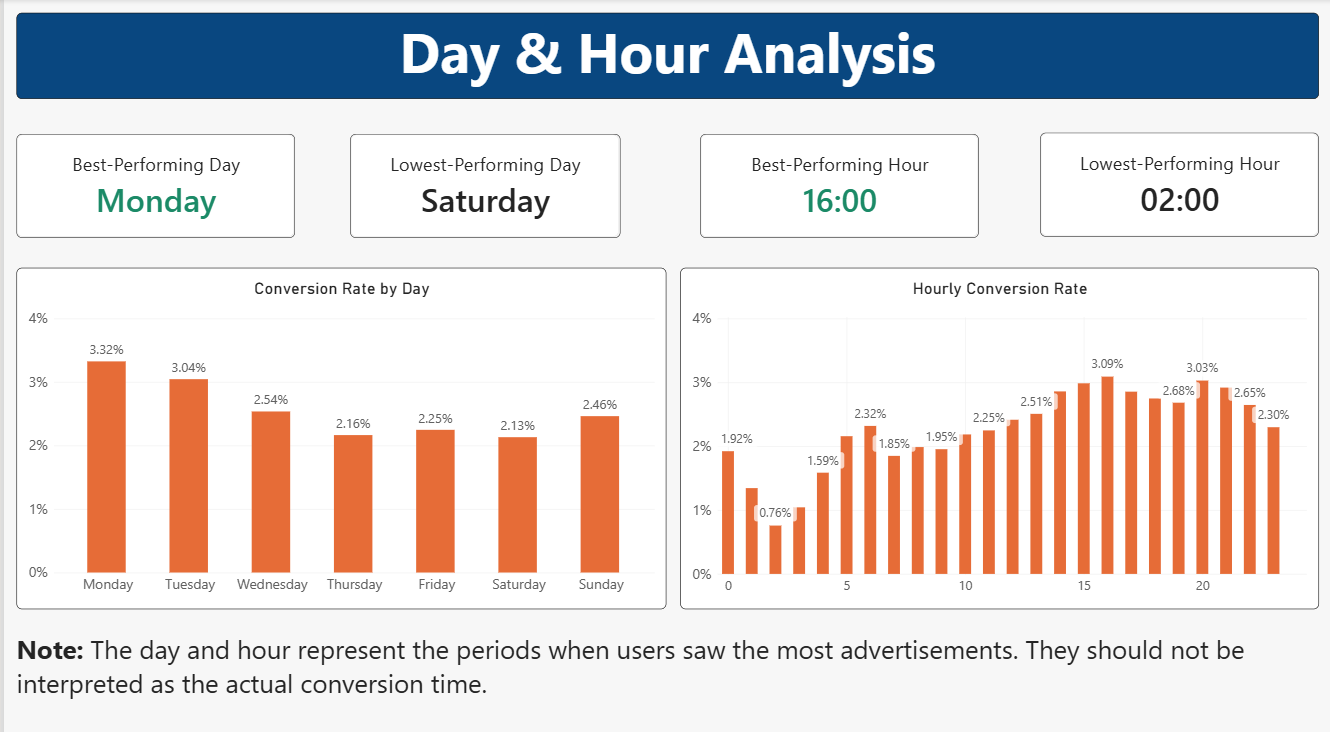

This screenshot's page, from the dashboard's own definition file:
{"tool":"powerbi","page":{"name":"day_hour_analysis","canvas":[1920,1080],"ordinal":2},"visuals":[{"type":"clusteredColumnChart","title":"Conversion Rate by Day","fields":{"Category":["DayLookup.Day"],"Y":["tblAB.Conversion Rate"]},"box":[18.1,389.1,941,494],"z":0},{"type":"lineClusteredColumnComboChart","title":"Hourly Conversion Rate","fields":{"Category":["tblAB.most ads hour"],"Y":["tblAB.Conversion Rate"]},"box":[979,389.1,924.7,494],"z":1},{"type":"textbox","box":[18.1,19.9,1885.7,124.9],"z":2},{"type":"cardVisual","fields":{"Data":["Min(DayLookup.Day)"]},"box":[501.3,195.4,390.9,150.2],"z":4},{"type":"cardVisual","fields":{"Data":["tblAB.Best Performing Hour"]},"box":[1008,195.4,403.6,150.2],"z":5},{"type":"cardVisual","fields":{"Data":["tblAB.Lowest Performing Hour"]},"box":[1500.2,193.6,403.6,150.2],"z":6},{"type":"cardVisual","fields":{"Data":["Min(DayLookup.Day)"]},"box":[18.1,195.4,403.6,150.2],"z":7},{"type":"textbox","box":[18.1,915.7,1885.7,123.1],"z":8}]}

Visuals, with their boxes in screenshot pixels (x1, y1, x2, y2), scaled from the page's 1920x1080 canvas onto the 1330x732 screenshot:
"Conversion Rate by Day" clusteredColumnChart: bbox(13, 264, 664, 599)
"Hourly Conversion Rate" lineClusteredColumnComboChart: bbox(678, 264, 1319, 599)
textbox: bbox(13, 13, 1319, 98)
cardVisual - Min(DayLookup.Day): bbox(347, 132, 618, 234)
cardVisual - tblAB.Best Performing Hour: bbox(698, 132, 978, 234)
cardVisual - tblAB.Lowest Performing Hour: bbox(1039, 131, 1319, 233)
cardVisual - Min(DayLookup.Day): bbox(13, 132, 292, 234)
textbox: bbox(13, 621, 1319, 704)
